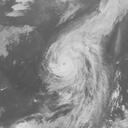cyclone: (42, 29, 107, 96)
